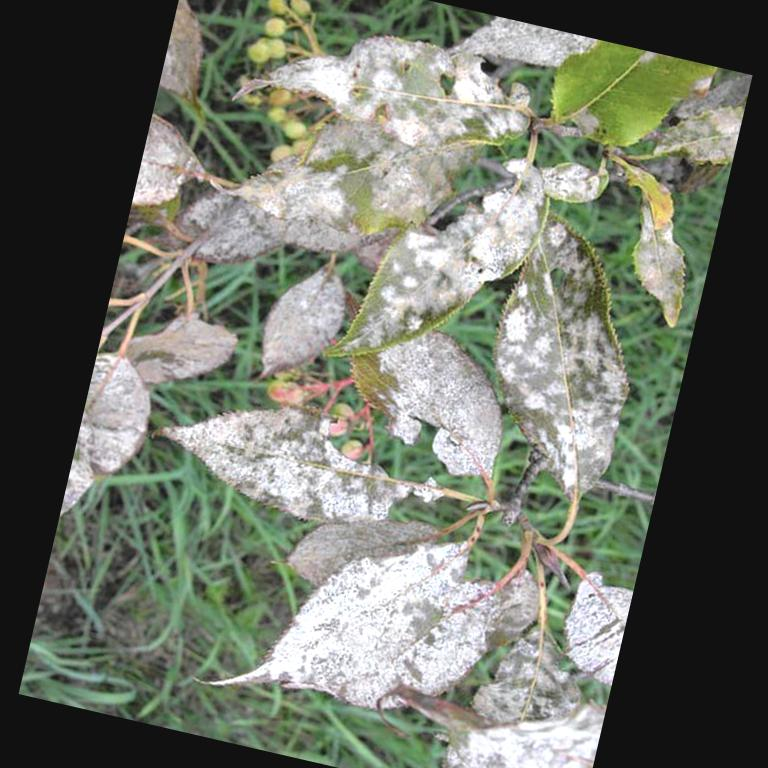powdery-mildew: (310, 554, 450, 674), (499, 310, 600, 414)
